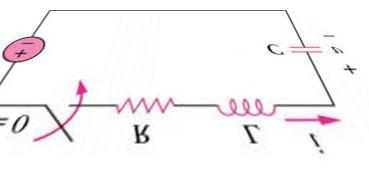inductor: (202, 86, 289, 122)
